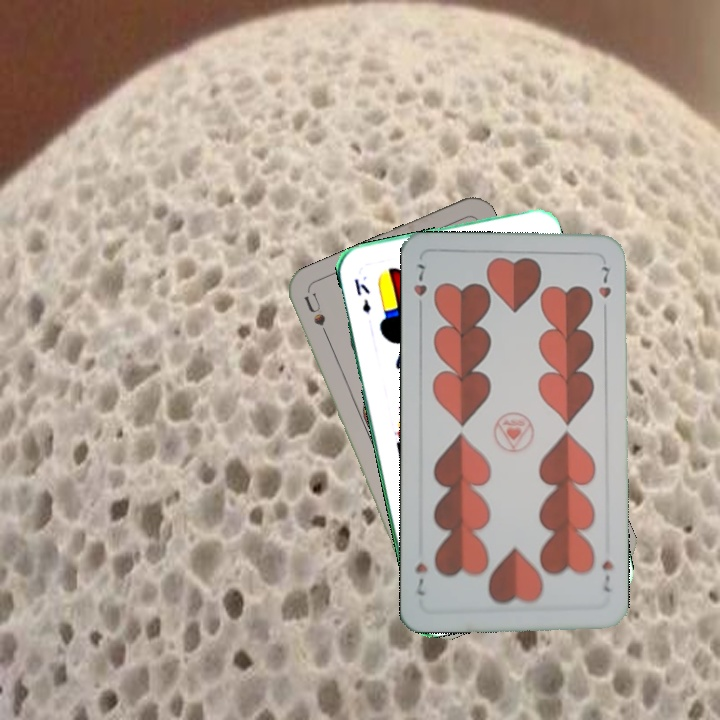EK: (350, 274, 373, 316)
H7: (410, 260, 430, 316), (598, 556, 616, 594)
SU: (300, 289, 335, 348)
